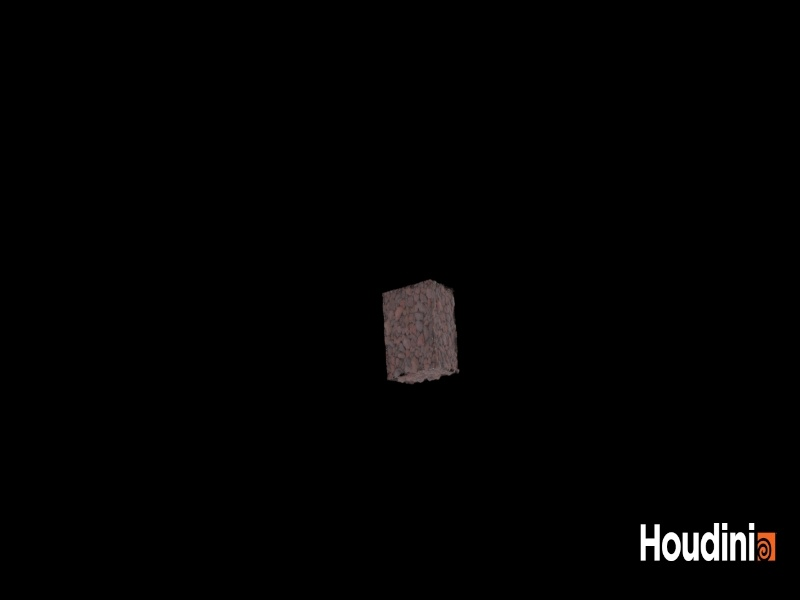waste: (375, 263, 474, 399)
